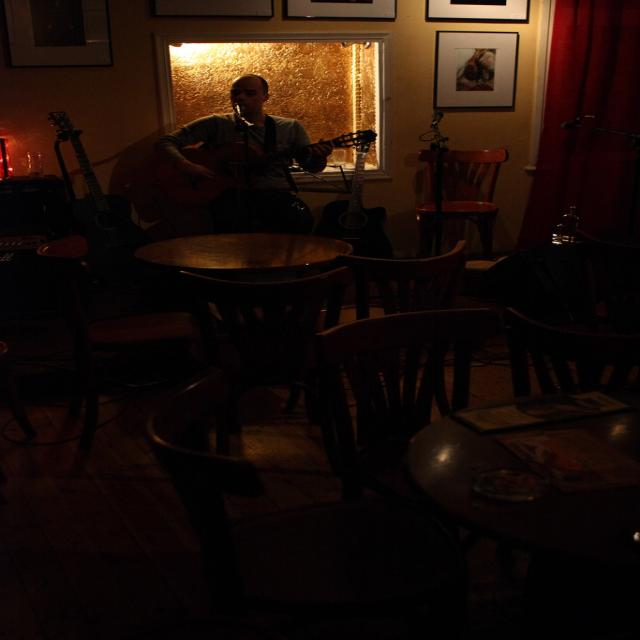People: (215, 67, 289, 226)
Table: (397, 400, 640, 624), (130, 219, 359, 325)
chair: (43, 369, 287, 627), (284, 290, 544, 514), (498, 237, 638, 420), (0, 193, 130, 376), (331, 228, 479, 305), (417, 139, 514, 254)
